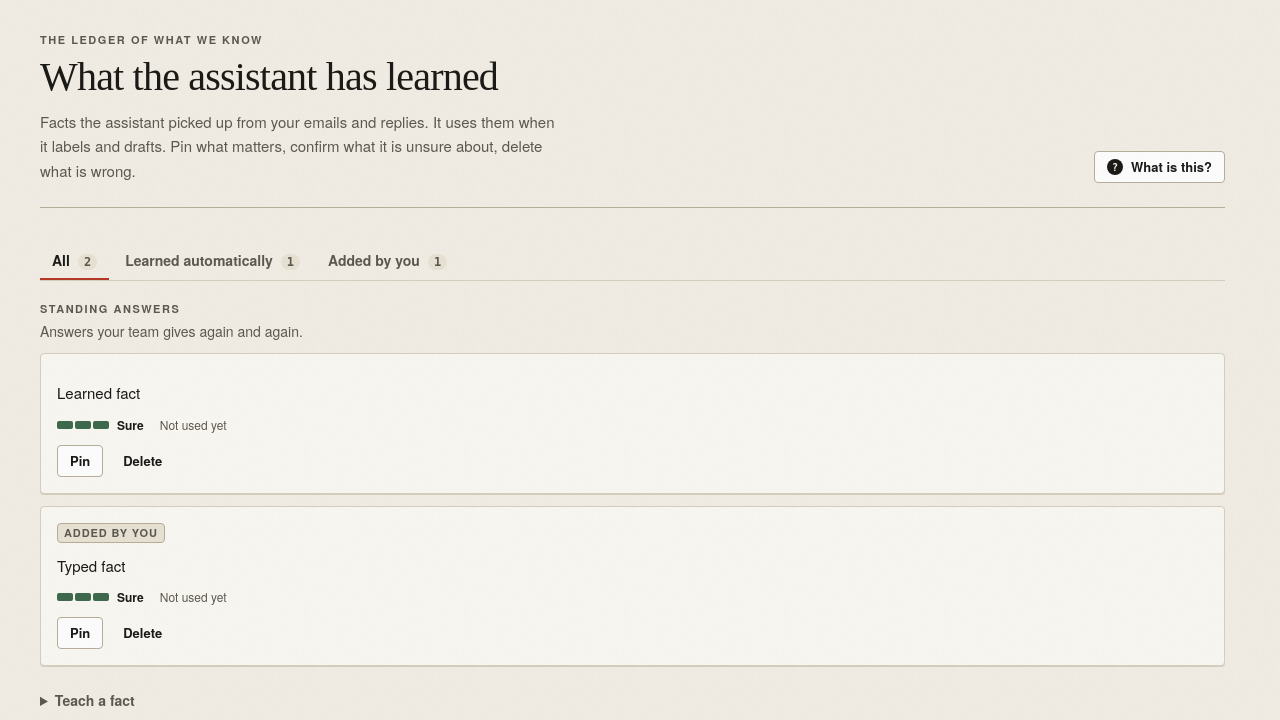
Scenario: MemoryPage › filters between learned automatically and added by you
This screenshot has width=1280, height=720.
expect the text "Learned fact" is shown: met, box [57,382,140,403]
expect the text "Typed fact" is shown: met, box [57,555,125,576]
Click the tab "Added by you1": point(388, 260) [316,240,459,280]
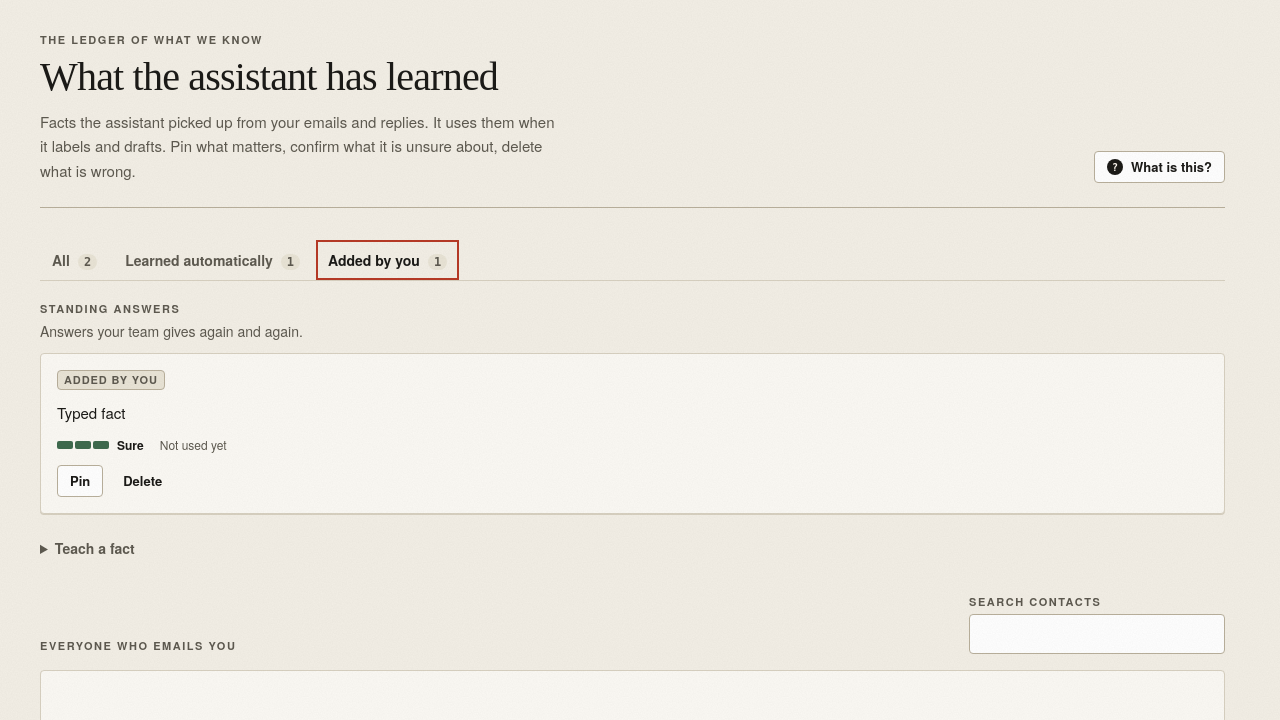
expect the text "Typed fact" is shown: met, box [57,402,125,423]
Click the tab "Learned automatically1": point(213, 260) [113,240,312,280]
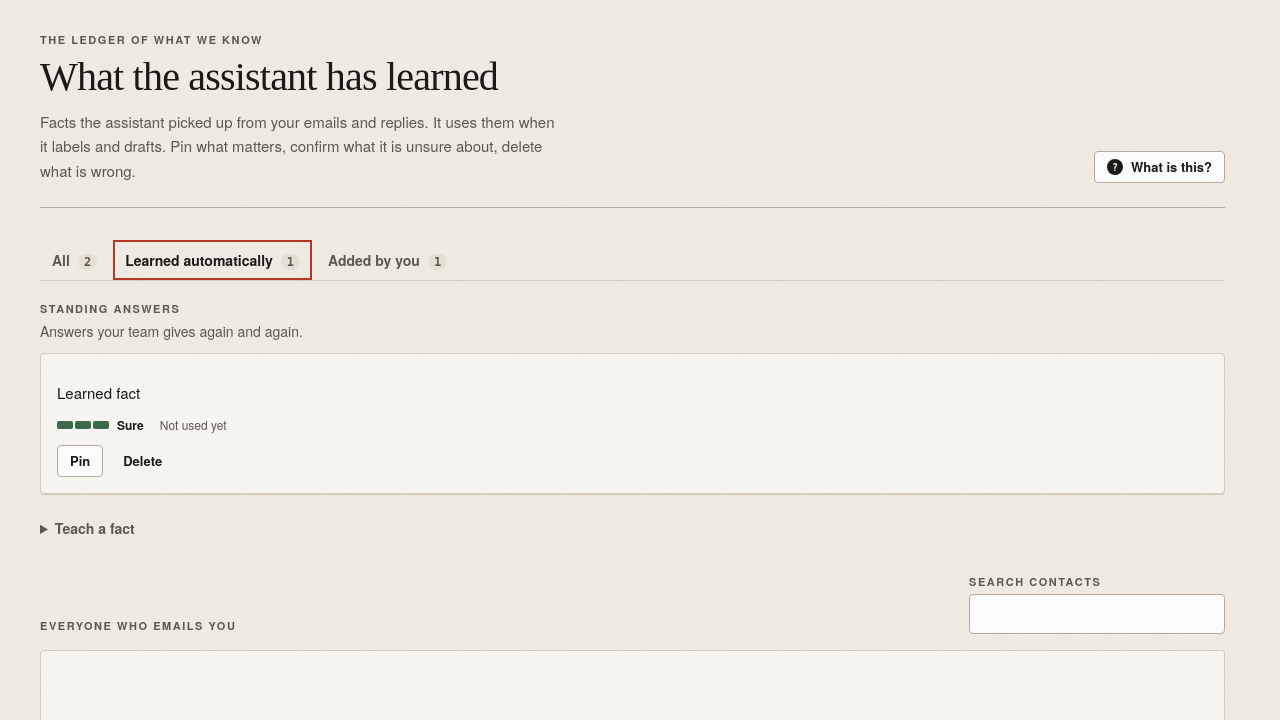
expect the text "Learned fact" is shown: met, box [57,382,140,403]
expect the text "Typed fact" is gone: met
